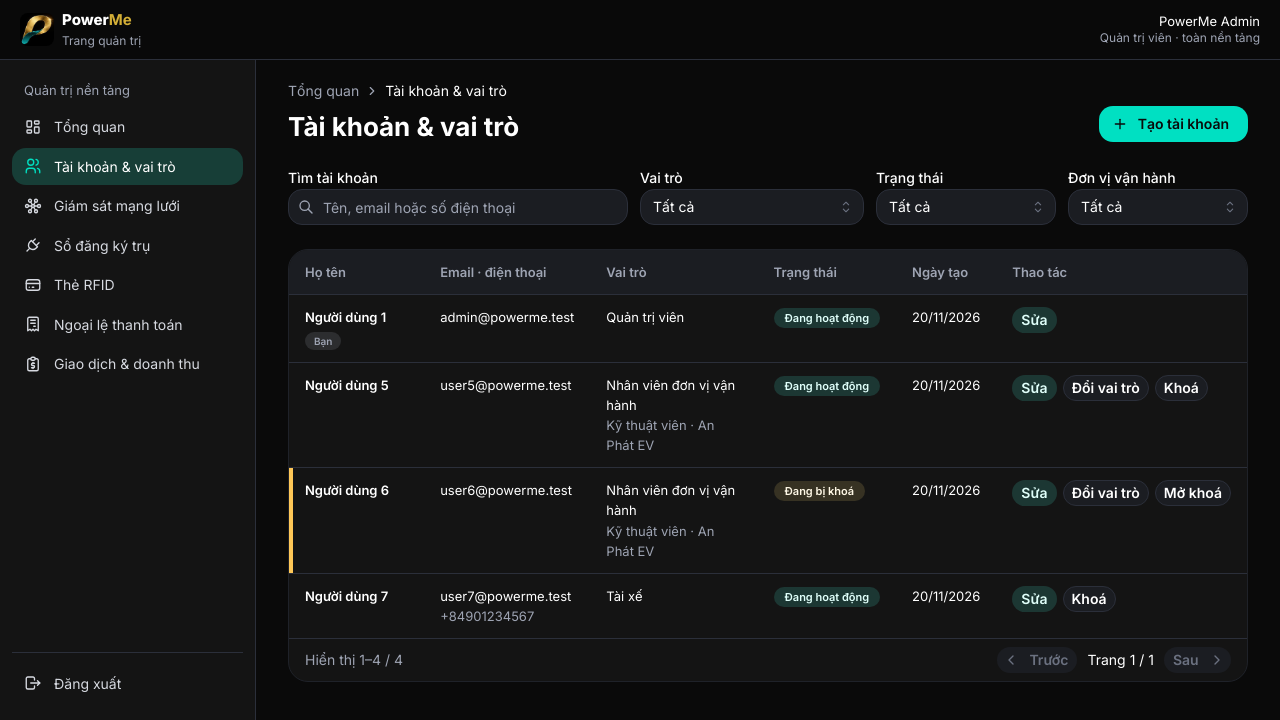
Test: Tài khoản & vai trò (màn 28) › create admin: Operator fields disappear and are not sent
Click the button "Tạo tài khoản" at (1173, 124), box [1099,106,1248,142]
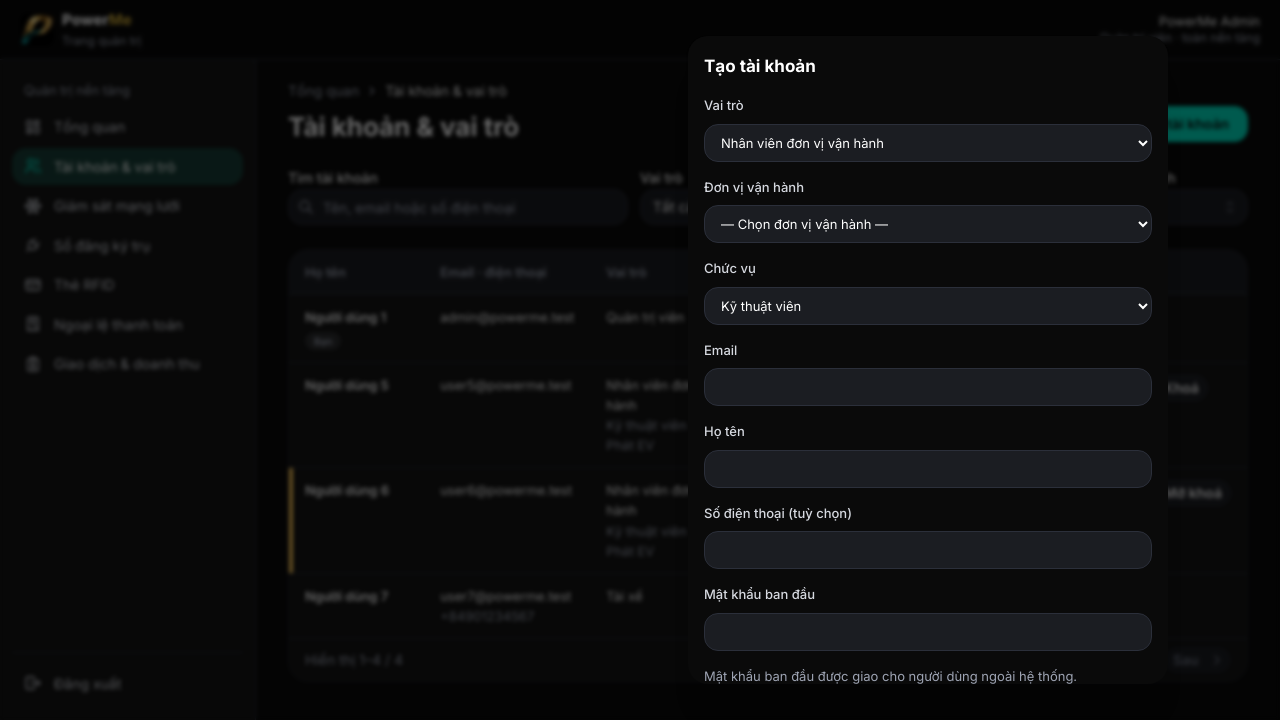
Select "Quản trị viên" in the dropdown labelled "Vai trò" at (928, 142), box [704,124,1152,162]
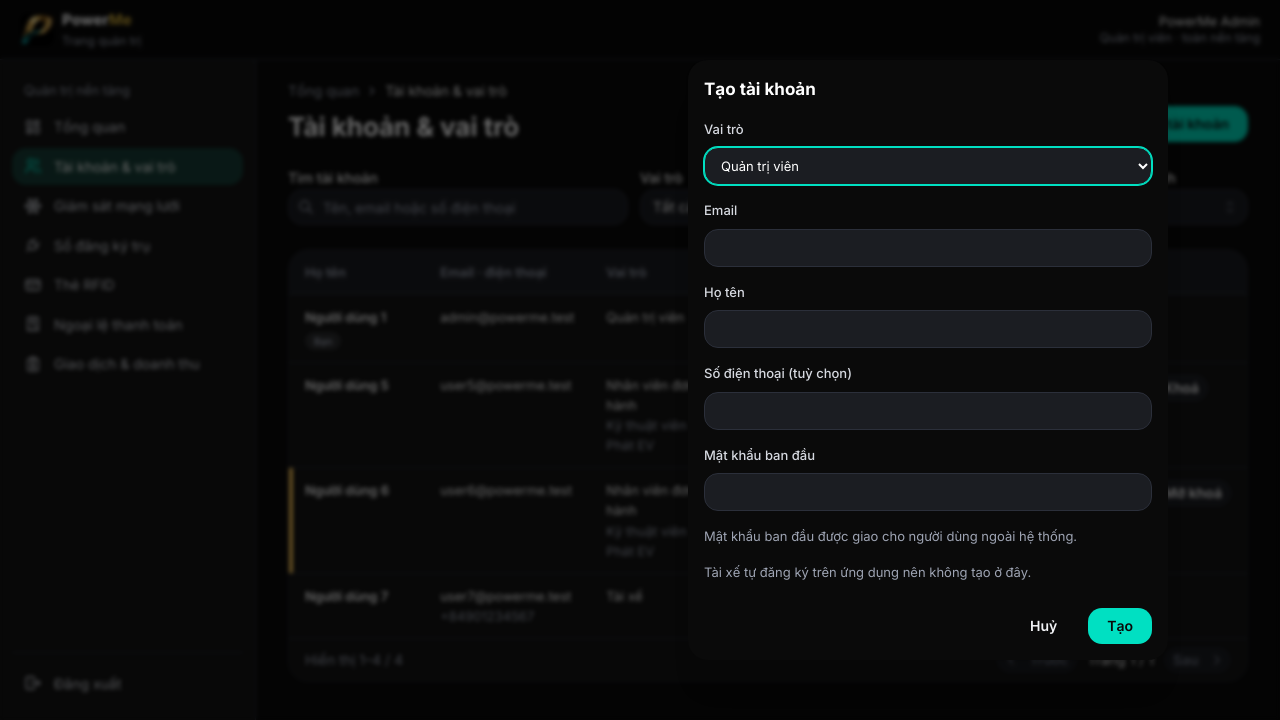
Type "admin2@powerme.test" into the field labelled "Email" at (928, 248), box [704,229,1152,267]
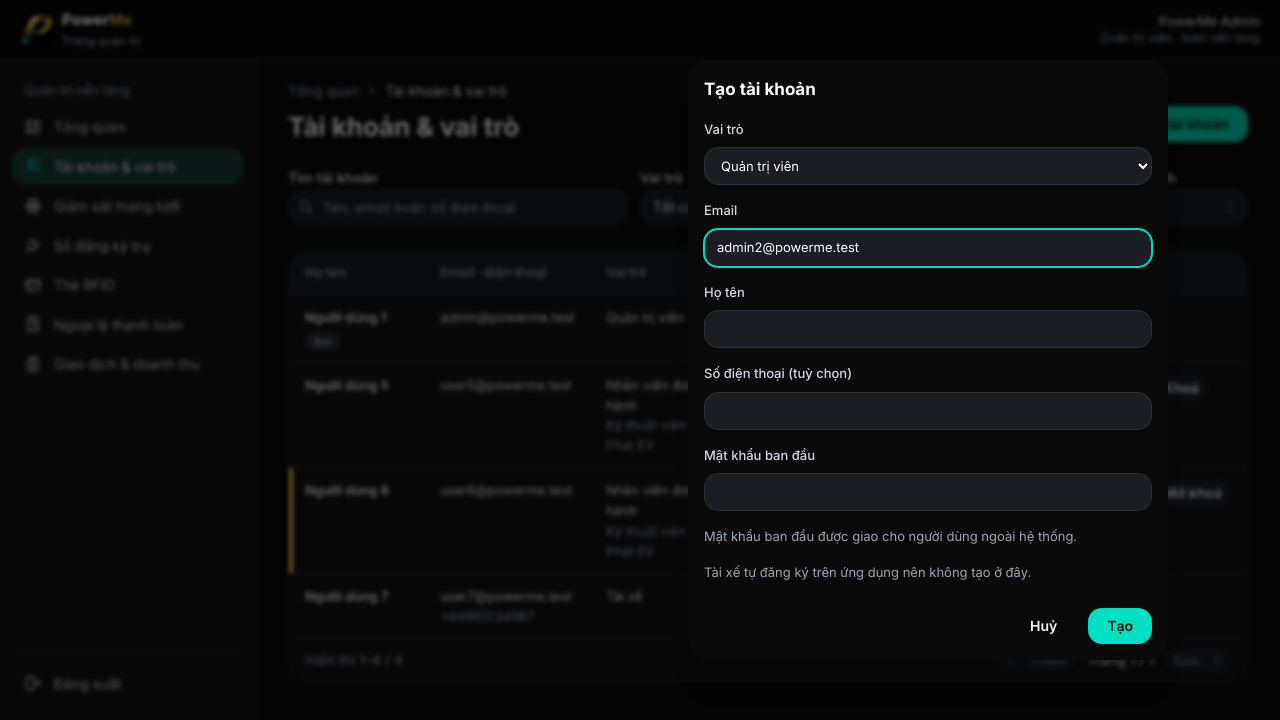
Type "Admin Hai" into the field labelled "Họ tên" at (928, 329), box [704,310,1152,348]
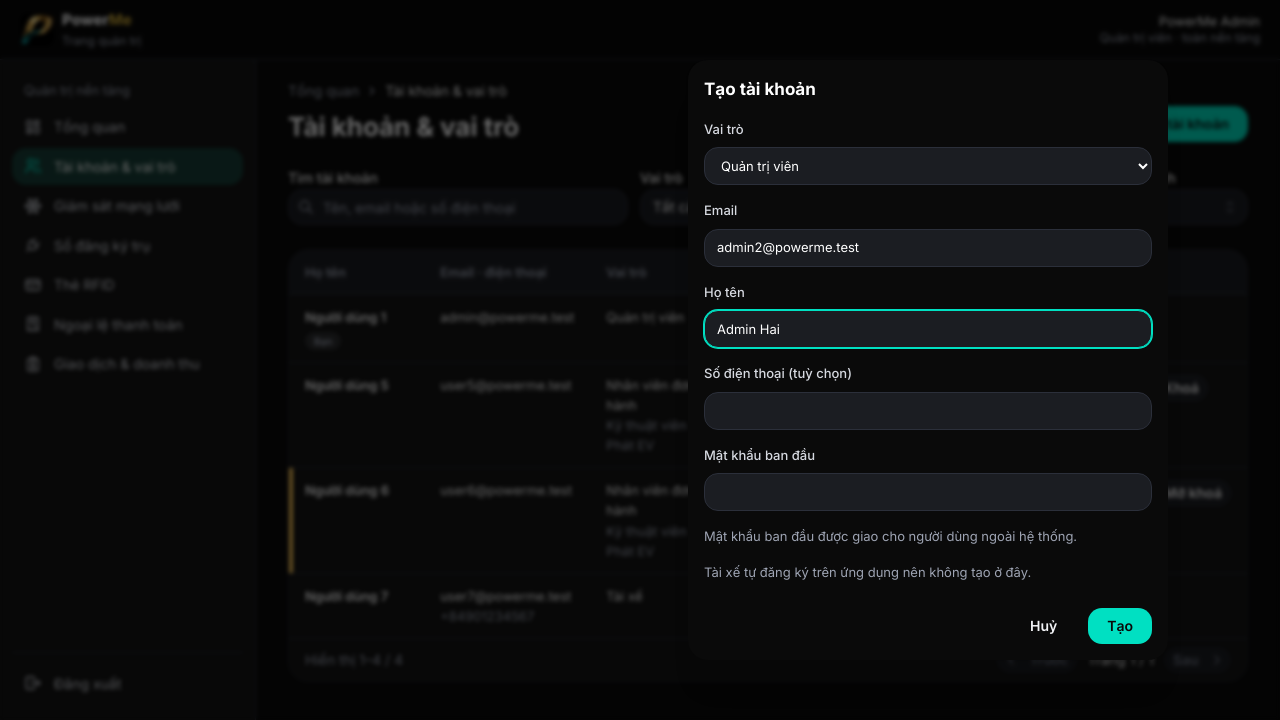
Type "mat-khau-123" into the password field labelled "Mật khẩu ban đầu" at (928, 492), box [704,473,1152,511]
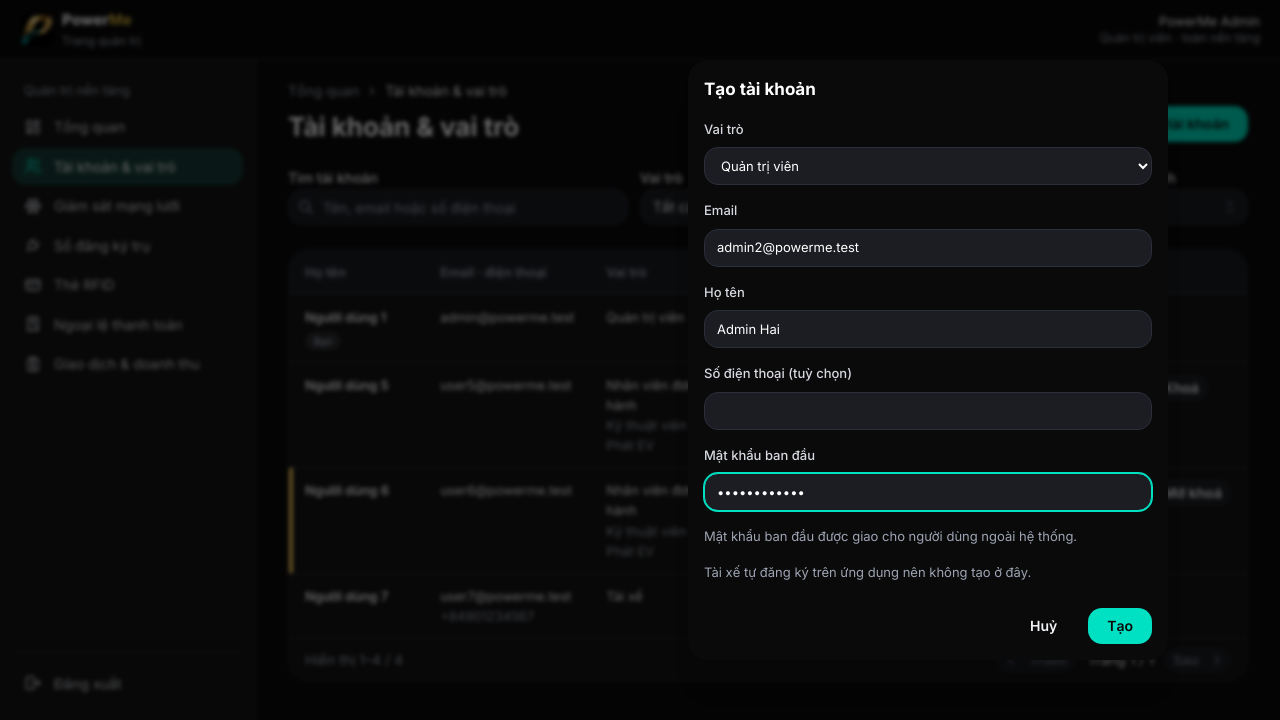
Click the button "Tạo" at (1120, 626), box [1088,608,1152,644]
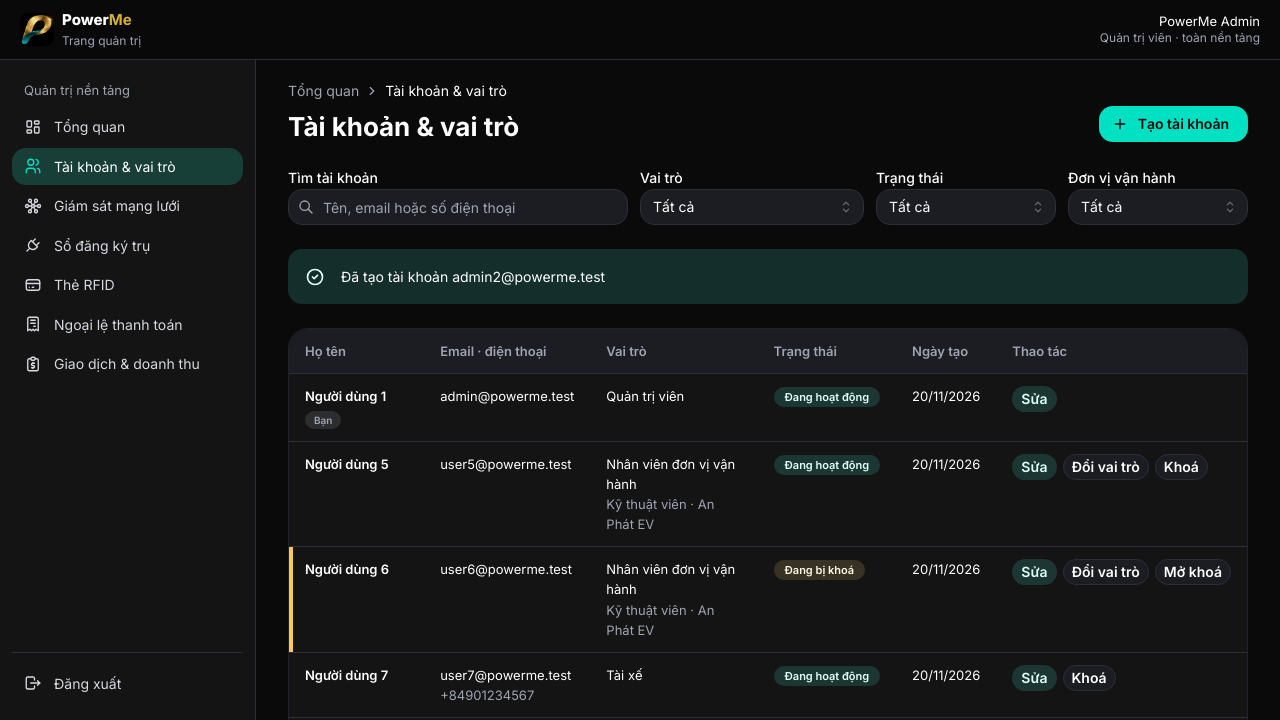
Check: the text "Đã tạo tài khoản admin2@powerme.test" is shown, box [341,268,605,285]
